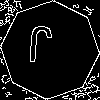J: (25, 25, 54, 73)
